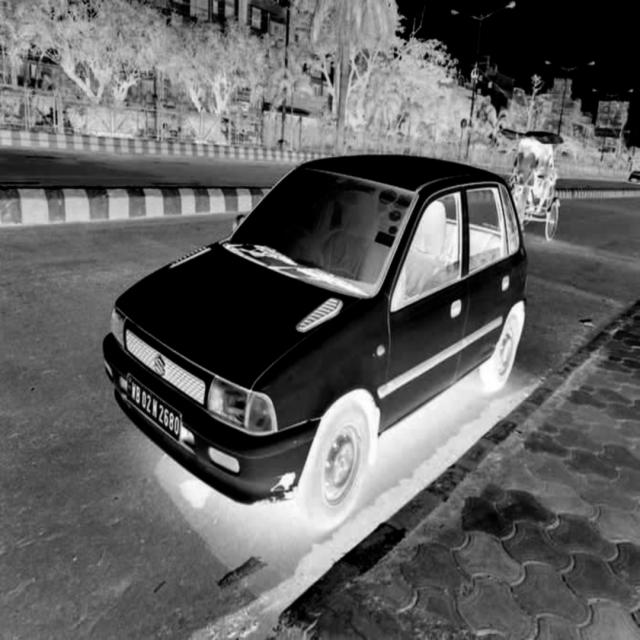0: (174, 414, 179, 437), (142, 390, 146, 411)
2: (158, 403, 164, 425), (147, 393, 152, 415)
6: (164, 408, 169, 428)
8: (170, 410, 173, 433)
B: (136, 385, 141, 405)
IND: (127, 376, 132, 392)
Indian_registered: (128, 375, 181, 439)
N: (152, 398, 158, 420)
W: (132, 381, 136, 402)
